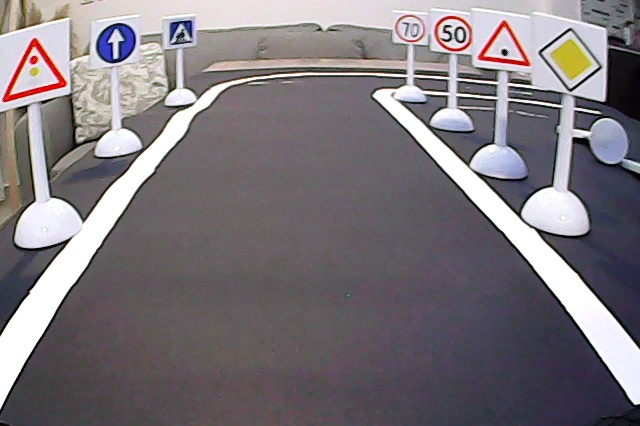green light: (477, 17, 532, 69)
red light: (1, 34, 67, 107)
school crossing: (167, 19, 195, 48)
speed limit 50: (433, 13, 474, 52)
speed limit 70: (394, 13, 426, 45)
